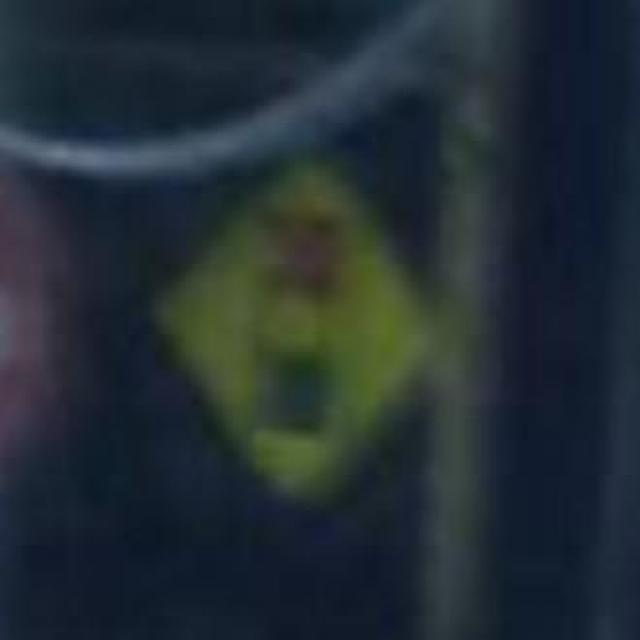traffic sign: (173, 152, 429, 490)
